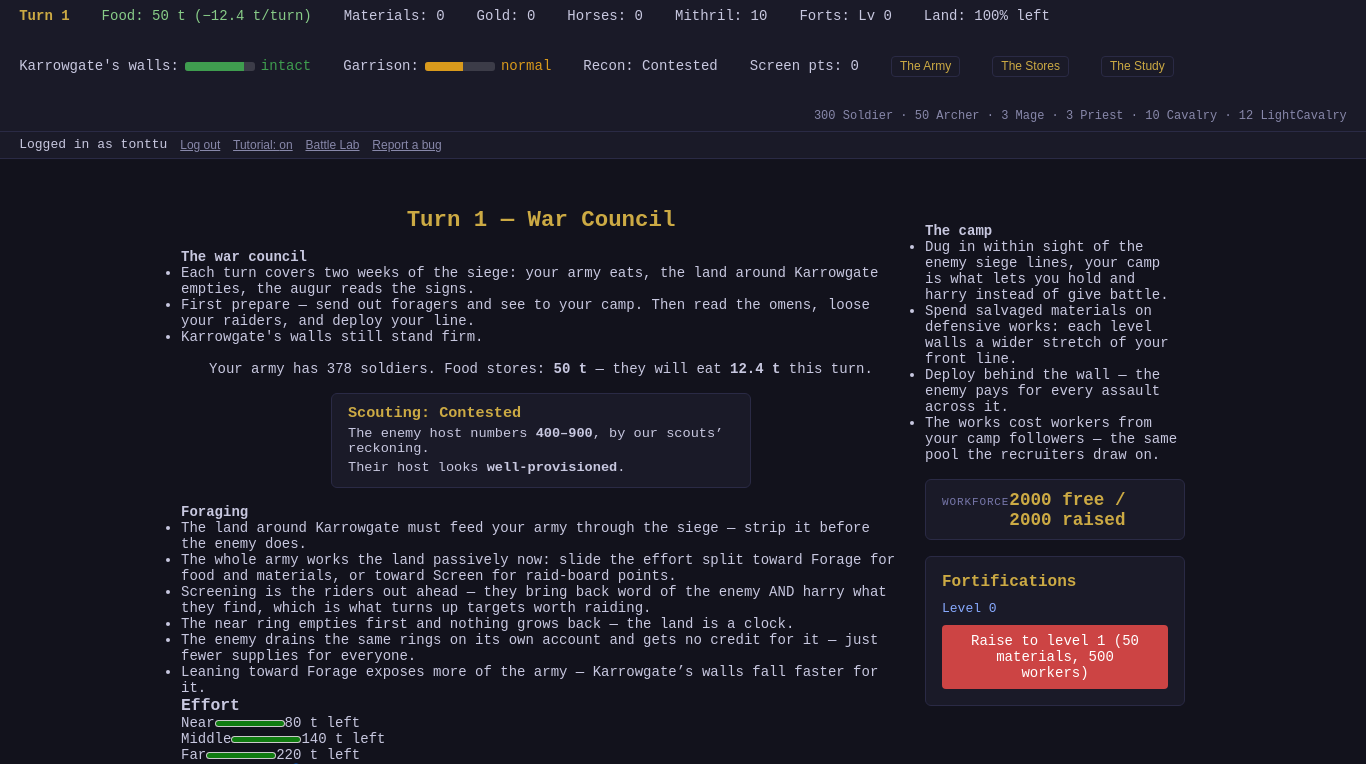
Test: Bug report button › submits the message with the current screen and shows a thanks state
This screenshot has width=1366, height=764.
Expected: the heading "Turn 1 — War Council" is shown, [407,207,675,233]
Click the button with test id "bug-report-open" at (407, 145), box [372,138,442,152]
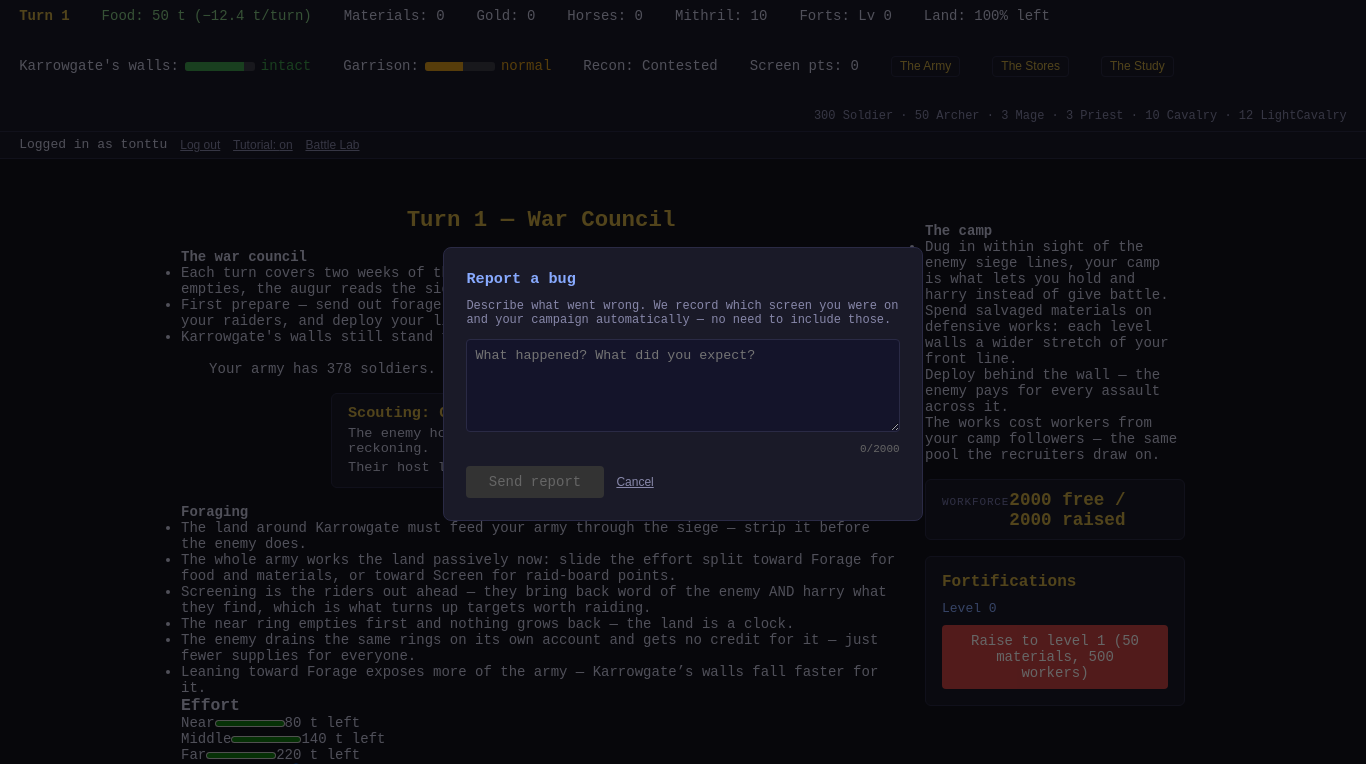
Type "the forage meter is wrong" into the text box with test id "bug-report-text" at (683, 385), box [466,338,900,432]
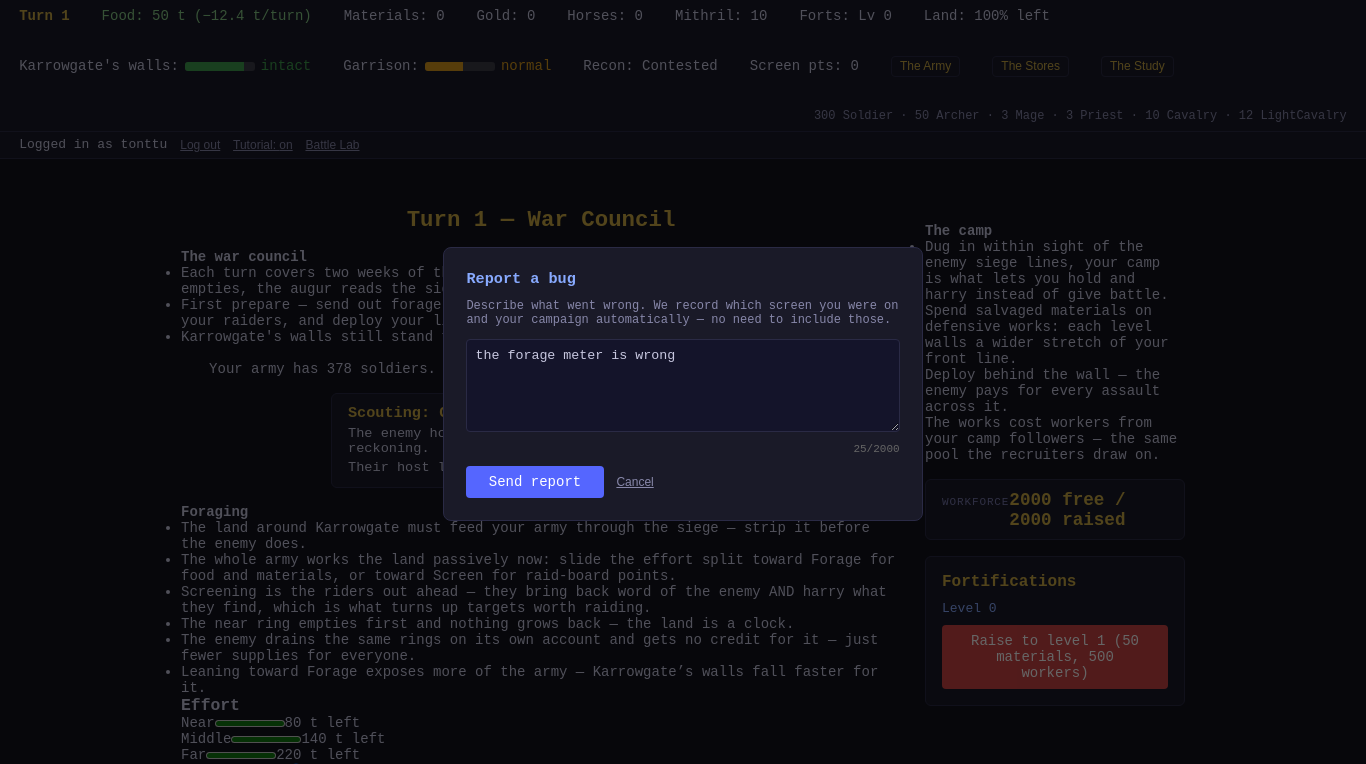
Click the button with test id "bug-report-submit" at (535, 482), box [466,466,604,498]
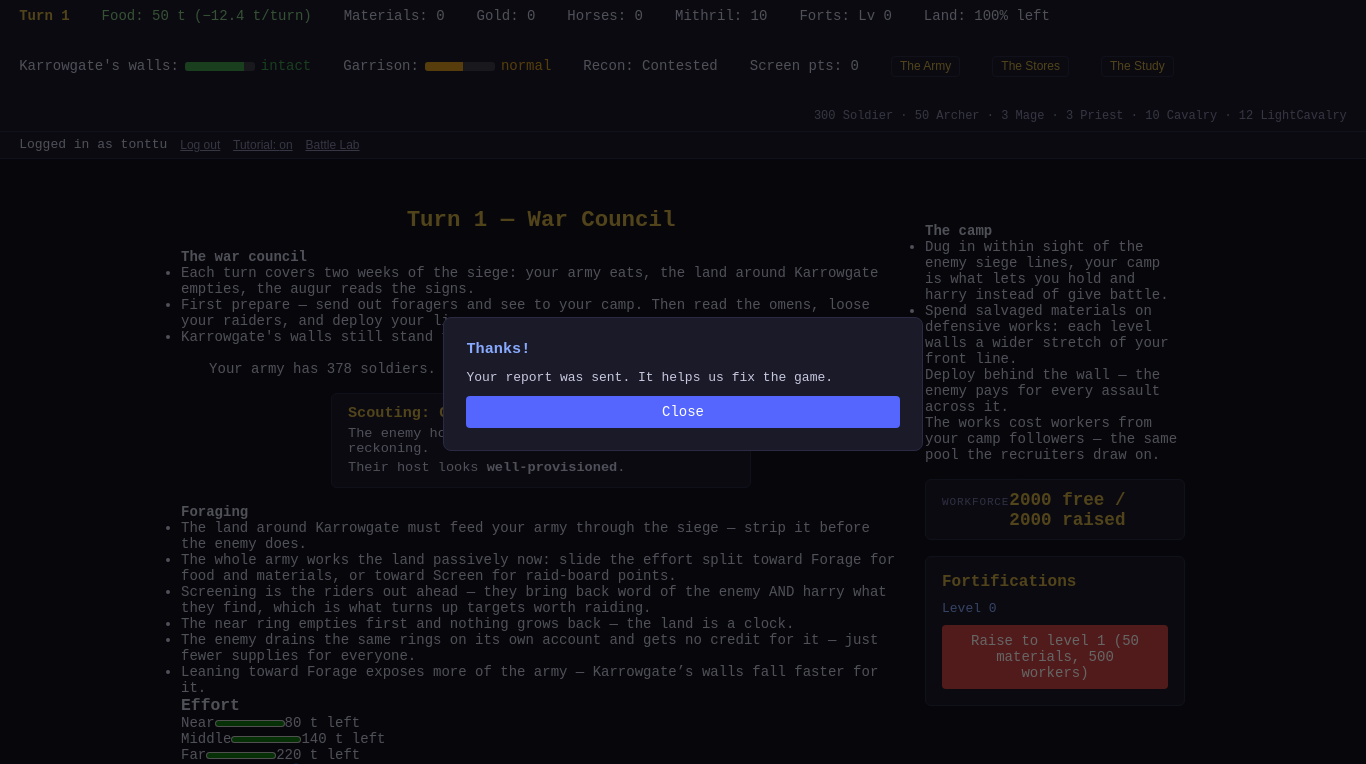
Expected: the heading "Thanks!" is shown, [466,340,530,358]
